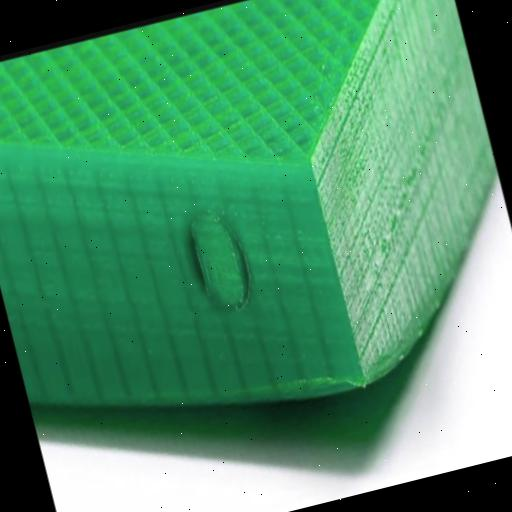cracks: (130, 267, 460, 448)
